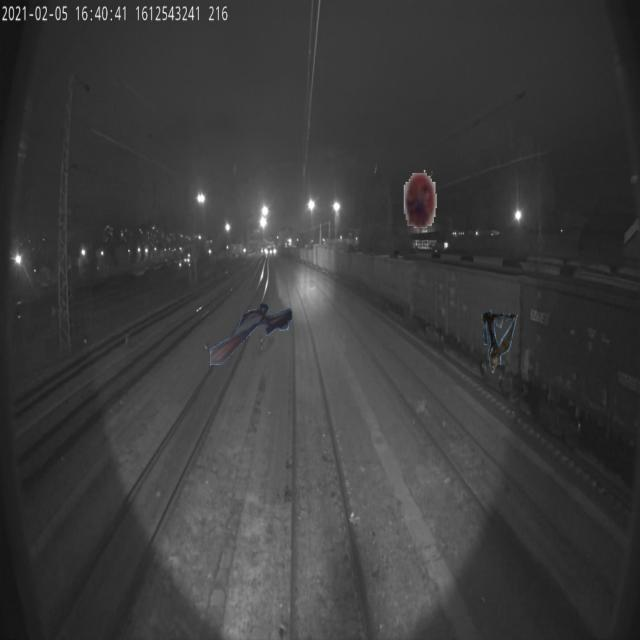floating object: (210, 302, 292, 366), (480, 310, 518, 374), (404, 164, 437, 228)
